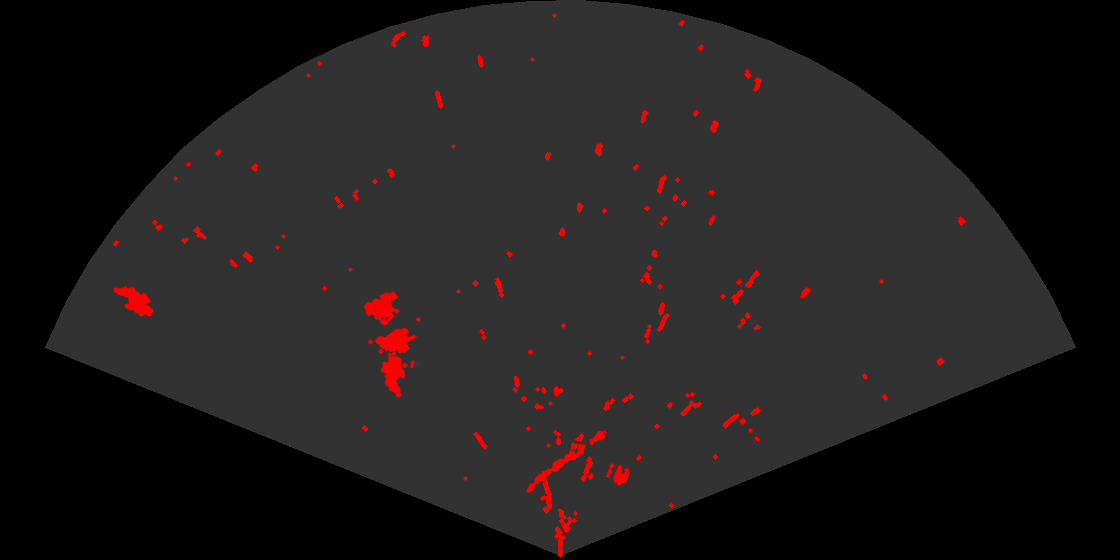AUV: (112, 285, 155, 318), (379, 349, 407, 399)
ball: (604, 461, 632, 487)
cage: (362, 289, 420, 368)
chain: (525, 429, 607, 495)
